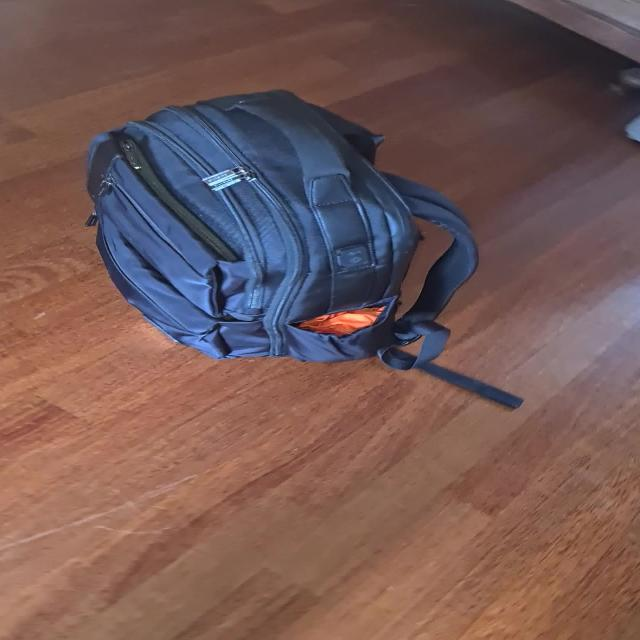backpack: (74, 78, 472, 369)
